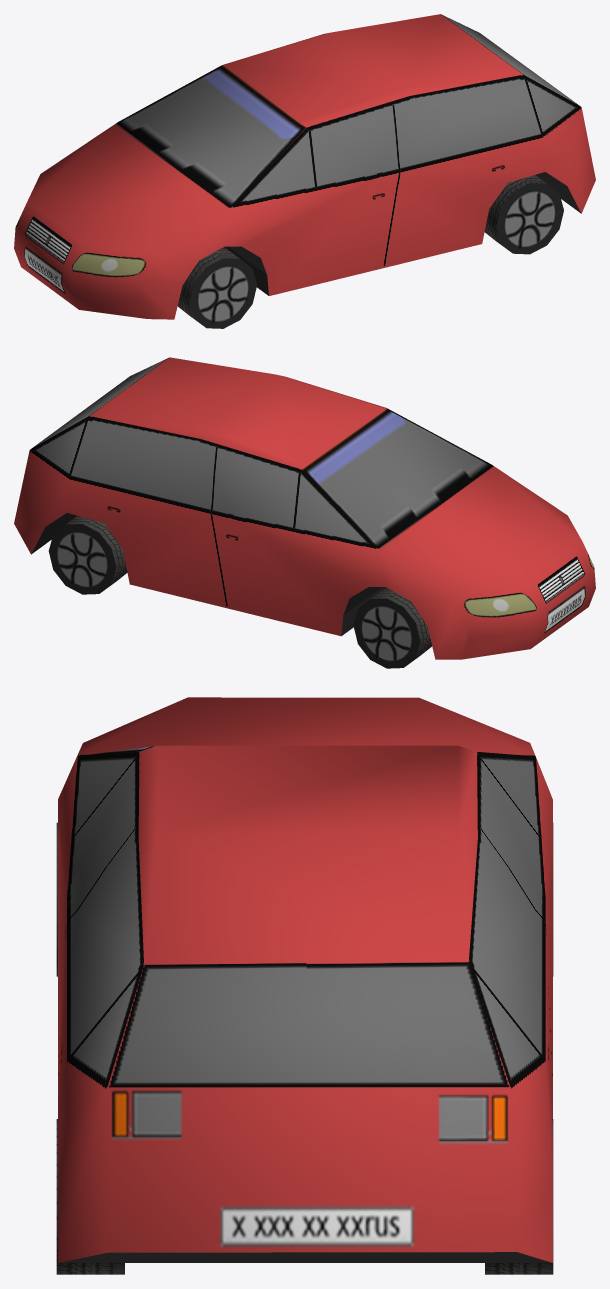
The picture shows the model from 3 angles, top to bottom: view 1: azimuth 30°, elevation 25°; view 2: azimuth 150°, elevation 25°; view 3: azimuth 270°, elevation 25°; orthographic projection. The views are drawn at different scales.
Parts seen in each view (by area): view 1: body; view 2: body; view 3: body.
Part boxes in pixels (x1,y1,x2,y2): body: [14, 14, 595, 328]; body: [14, 357, 595, 668]; body: [56, 697, 553, 1274].
Bounding box in the file's own units: 449 × 146 × 193.
